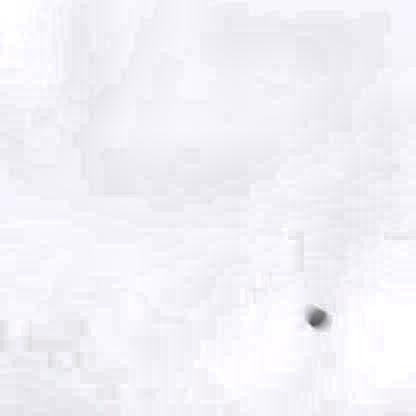golfball: (301, 305, 326, 327)
